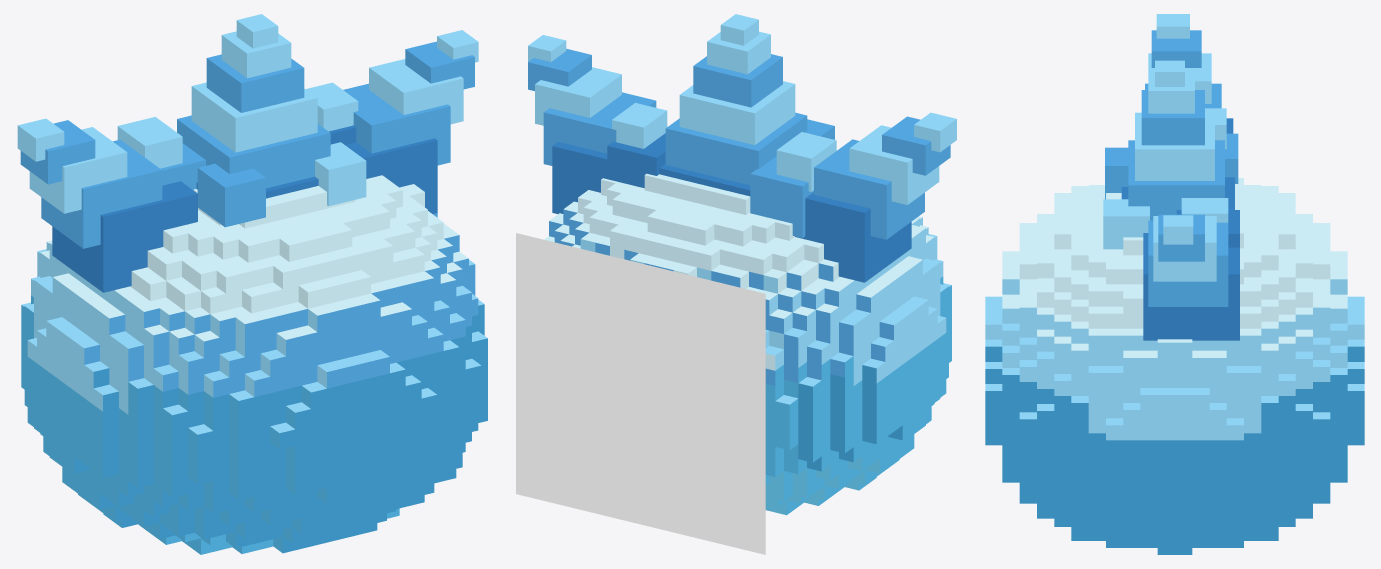
The model's file is slime_cryo.glb.
3 views of the same model, side by side, from view 1: azimuth 30°, elevation 25°; view 2: azimuth 150°, elevation 25°; view 3: azimuth 270°, elevation 25° (orthographic). The views are drawn at different scales.
Visible parts, largest first — view 1: Shell, CryoIceShell; view 2: Face, Shell, CryoIceShell; view 3: Shell, CryoIceShell.
Part boxes in pixels (x1,y1,x2,y2): Shell: (21,175,487,554); CryoIceShell: (17,14,478,292); Face: (516,233,765,554); Shell: (544,173,951,515); CryoIceShell: (528,14,956,282); Shell: (985,178,1364,554); CryoIceShell: (1103,14,1239,340).
Bounding box in the file's own units: 1.42 × 1.42 × 1.15.
